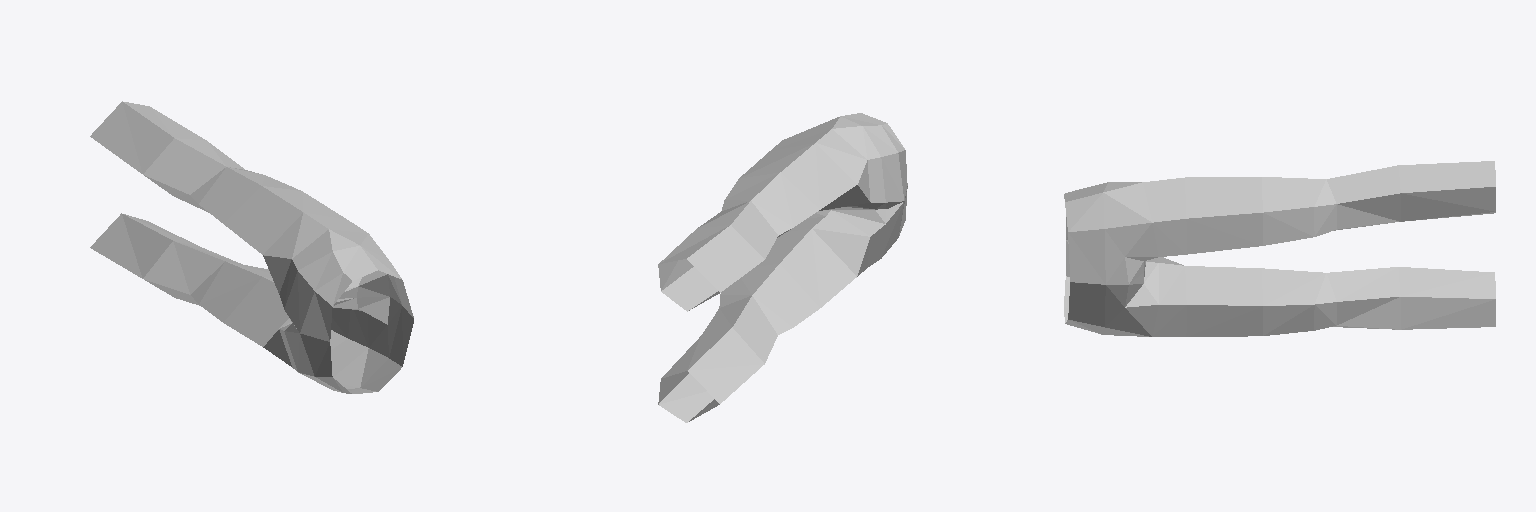
3 renders of one model, left to right at view 1: azimuth 30°, elevation 25°; view 2: azimuth 150°, elevation 25°; view 3: azimuth 270°, elevation 25°, orthographic.
Visible parts, largest first — view 1: ka_downbody_002; view 2: ka_downbody_002; view 3: ka_downbody_002.
Part boxes in pixels (x1,y1,x2,y2): ka_downbody_002: (90,101,413,393); ka_downbody_002: (658,113,907,422); ka_downbody_002: (1064,161,1495,336).
Size of the model in its own units: 26.81 by 35.62 by 84.72.